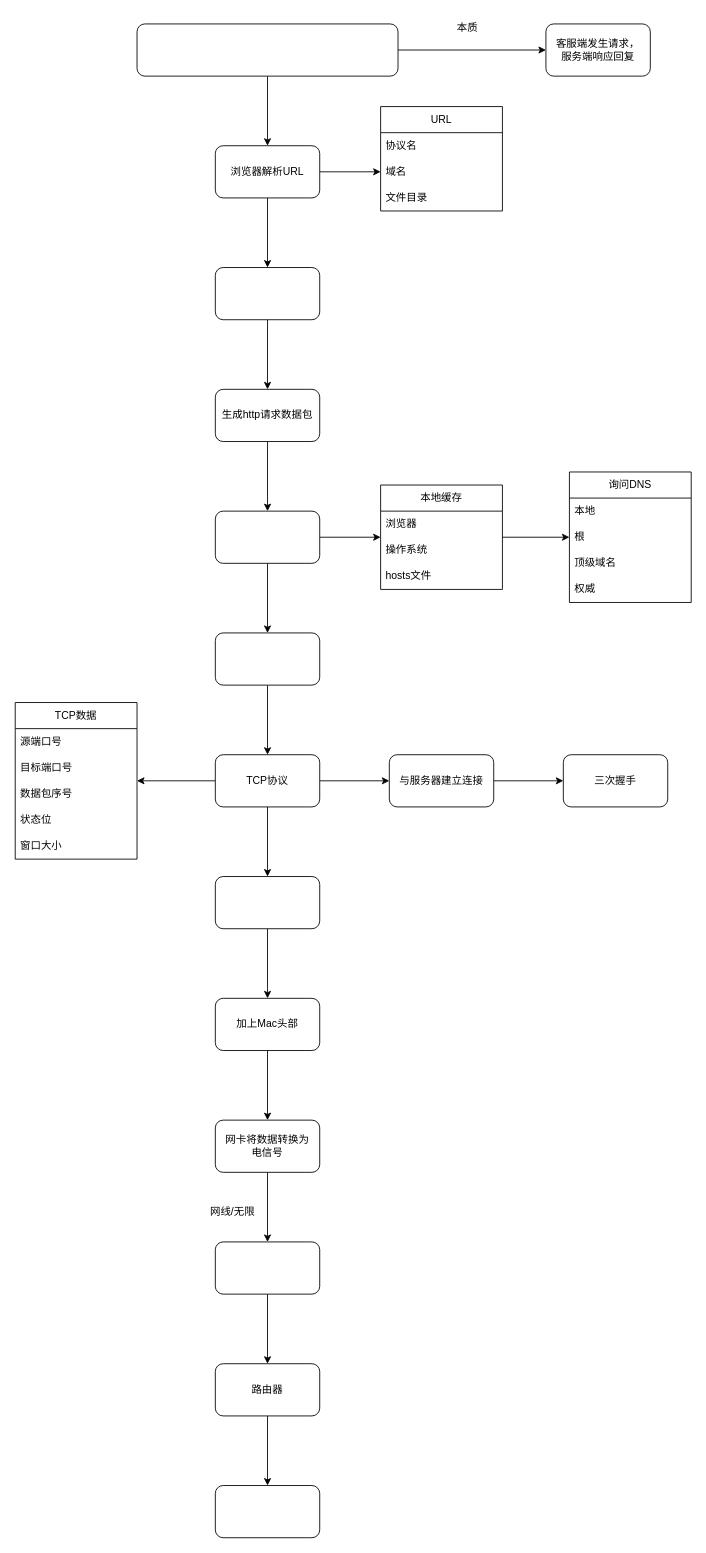
Image size: 706x1553. Some labels were removed from this diagram. Here are the shapes that lost their labels. From the top down, the centre of each, then its label:
At (267,49): "键入网址到网页显示发生了什么？".
At (267,293): "得到 Web服务器和文件名".
At (267,536): "查询服务器域名对应的 IP 地址".
At (267,658): "协议栈 规定了工作顺序".
At (267,902): "IP 模块将数据封装成网络包".
At (267,1267): "交换机".
At (267,1511): "服务器层层解析 数据包".
